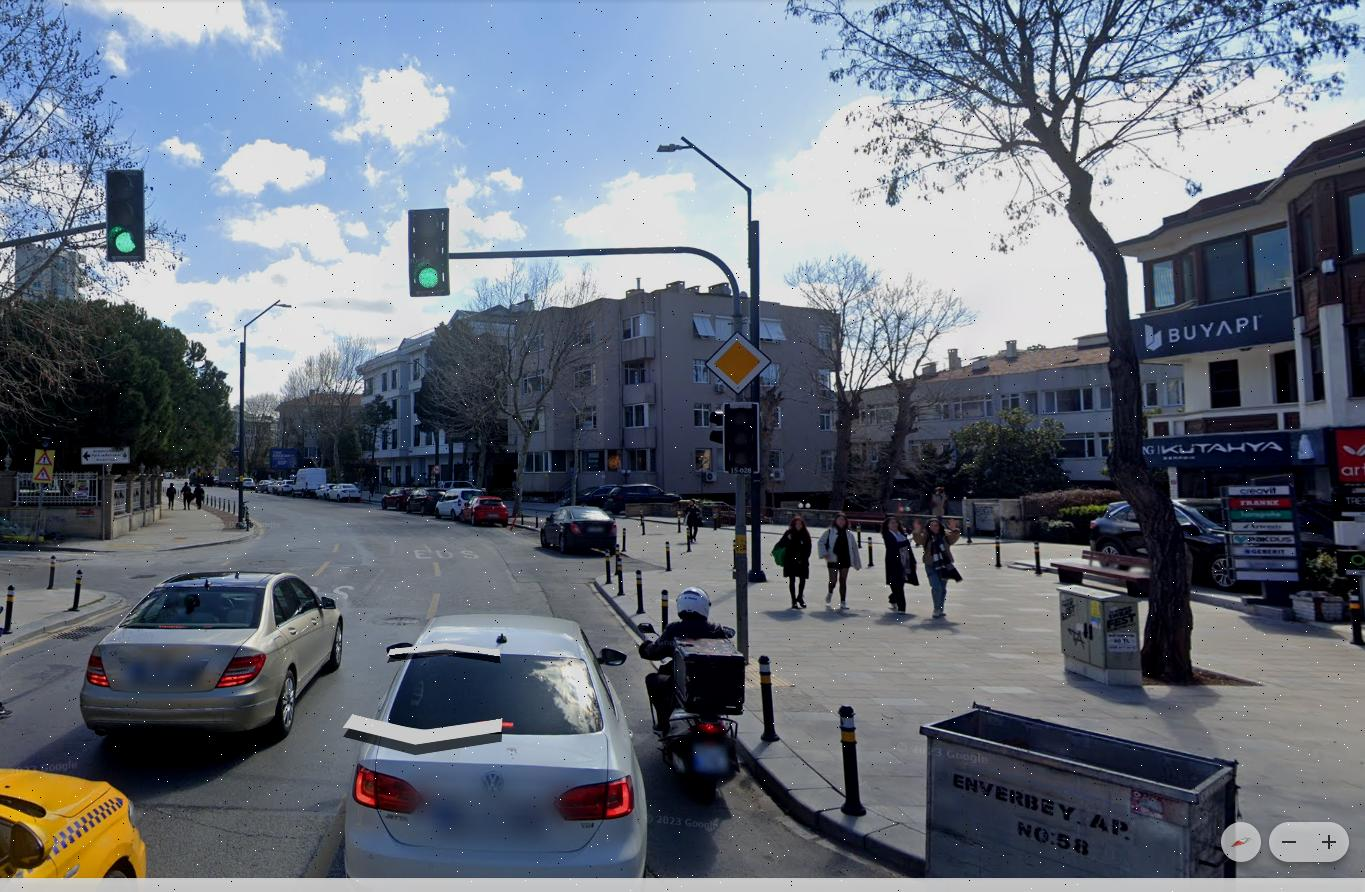greenlight: (105, 168, 143, 261), (409, 212, 448, 291)
